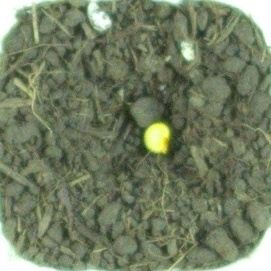pepper seed: (56, 44, 228, 199)
